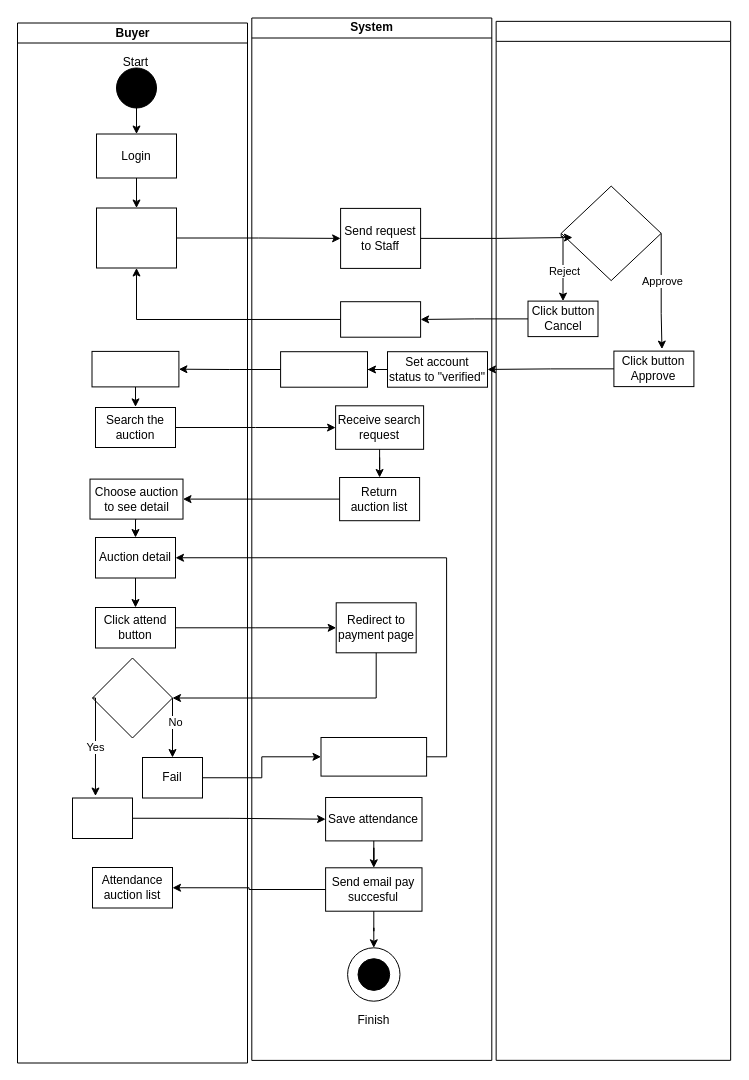
This 749x1080 diagram has some shape labels left out. The centre of each missing label's shape, as x and y in pixels:
"Check authentication?" goes at point (610, 233).
"Homepage" goes at point (135, 368).
"Pay attendance fee?" goes at point (132, 697).
"Redirect to auction detail page" goes at point (373, 756).
"Send approve email" goes at point (324, 369).
"Send email rejected" goes at point (380, 319).
"Staff" goes at point (613, 540).
"Success" goes at point (102, 817).
"Update profile" goes at point (136, 237).
